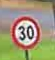limite 30: (10, 13, 41, 48)
